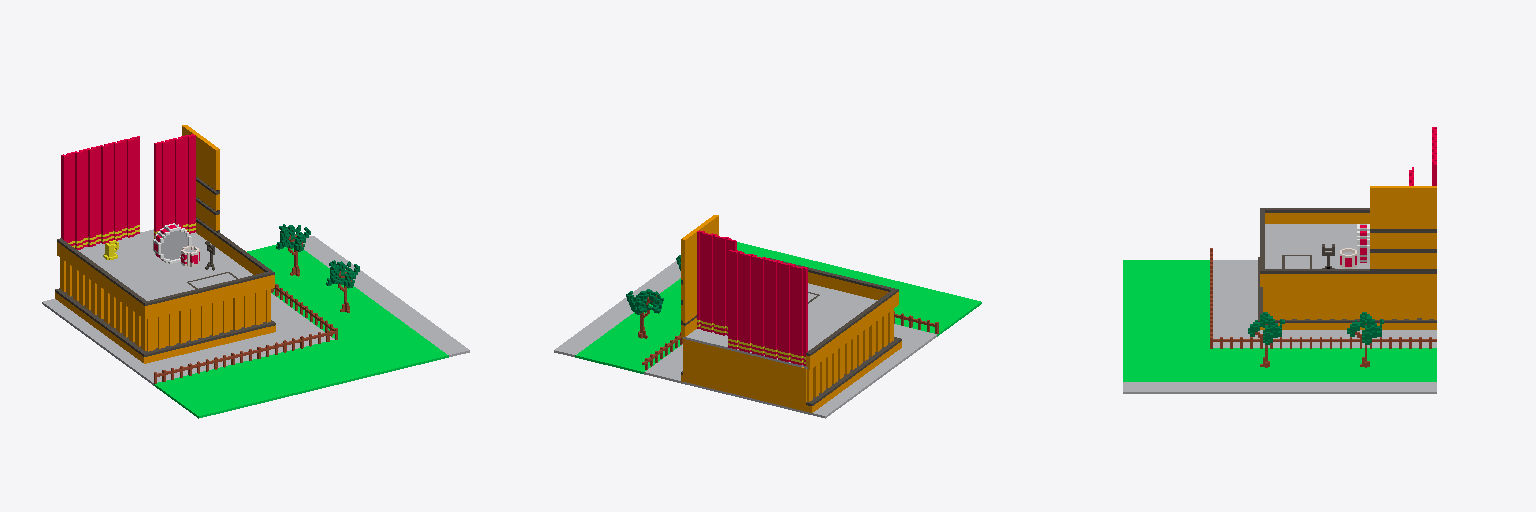
3 views of the same model, side by side, from view 1: azimuth 30°, elevation 25°; view 2: azimuth 150°, elevation 25°; view 3: azimuth 270°, elevation 25° (orthographic).
Bounding box in the file's own units: 126 × 64 × 126.
Materials: 1 (1 with a texture image).